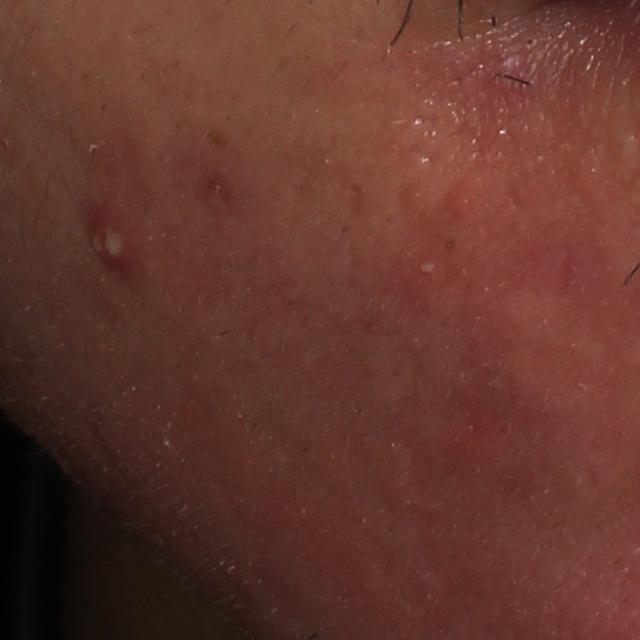pustule: (79, 202, 152, 276), (410, 249, 445, 284)
